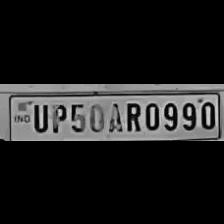0: (86, 100, 106, 132), (140, 99, 160, 131), (198, 97, 216, 128)
5: (67, 98, 85, 132)
9: (160, 97, 178, 130), (179, 98, 197, 130)
A: (105, 98, 121, 132)
P: (50, 100, 66, 134)
R: (122, 98, 142, 132)
U: (29, 100, 48, 132)
